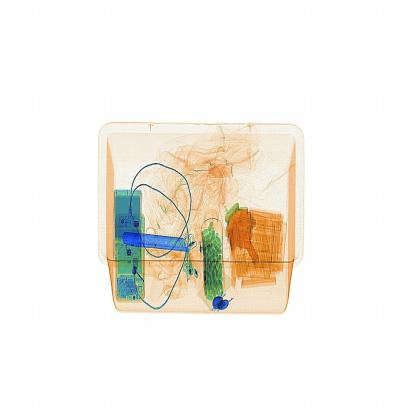pliers: (118, 227, 194, 260)
